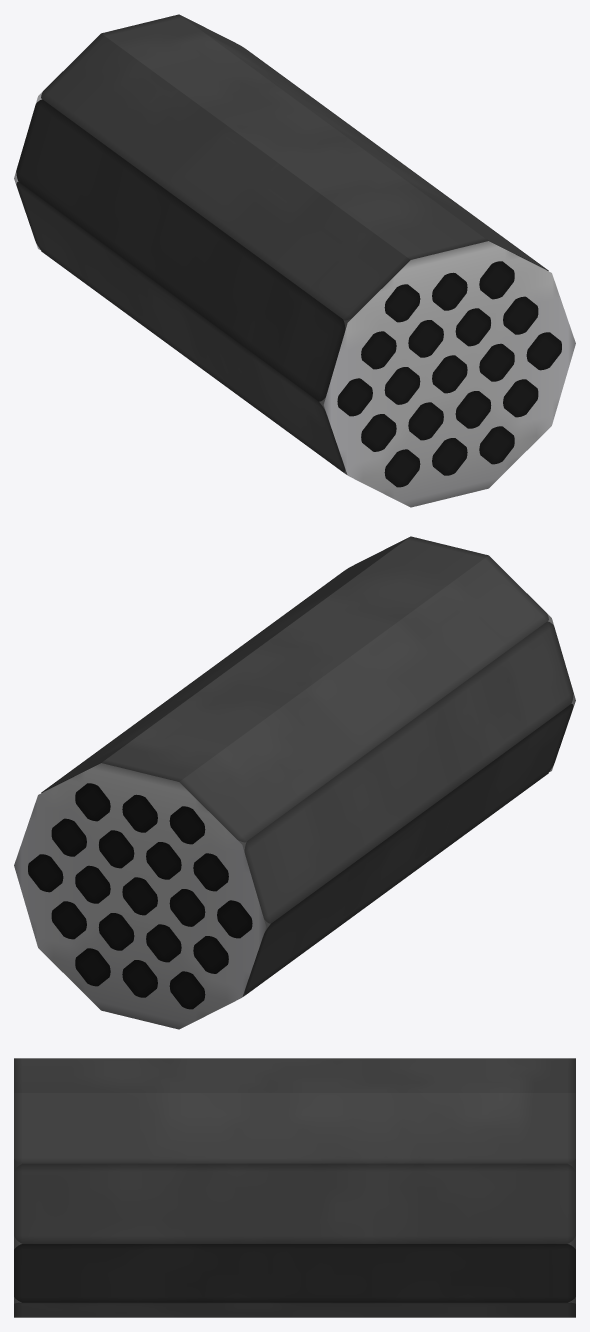
Rendered from m261_rocket_launcher.obj.
3 renders of one model, top to bottom at view 1: azimuth 30°, elevation 25°; view 2: azimuth 150°, elevation 25°; view 3: azimuth 270°, elevation 25°, orthographic. The views are drawn at different scales.
Parts seen in each view (by area): view 1: cylinder, cube37, cube27, cube19, cube22, cube23, cube21, cube30, cube31, cube35, cube36, cube20 (+8 smaller); view 2: cylinder, cube18, cube8, cube, cube3, cube4, cube2, cube11, cube12, cube16, cube17, cube1 (+8 smaller); view 3: cylinder.
Boxes of the visible parts, <box> form: cylinder: <box>14,14,575,507</box>; cube37: <box>337,378,372,416</box>; cube27: <box>408,402,443,440</box>; cube19: <box>361,331,396,369</box>; cube22: <box>503,296,538,334</box>; cube23: <box>479,261,514,299</box>; cube21: <box>455,308,490,346</box>; cube30: <box>479,343,514,381</box>; cube31: <box>432,355,467,393</box>; cube35: <box>479,426,514,464</box>; cube36: <box>526,332,561,370</box>; cube20: <box>408,320,443,357</box>; cylinder: <box>14,536,575,1029</box>; cube18: <box>217,900,252,938</box>; cube8: <box>146,924,181,962</box>; cube: <box>193,853,228,891</box>; cube3: <box>51,818,86,856</box>; cube4: <box>75,783,110,821</box>; cube2: <box>99,830,134,868</box>; cube11: <box>122,877,157,915</box>; cube12: <box>75,865,110,903</box>; cube16: <box>75,948,110,986</box>; cube17: <box>28,854,63,892</box>; cube1: <box>146,842,181,879</box>; cylinder: <box>14,1058,575,1317</box>.
Size of the model in its own units: 1 by 0.9375 by 2.13.
